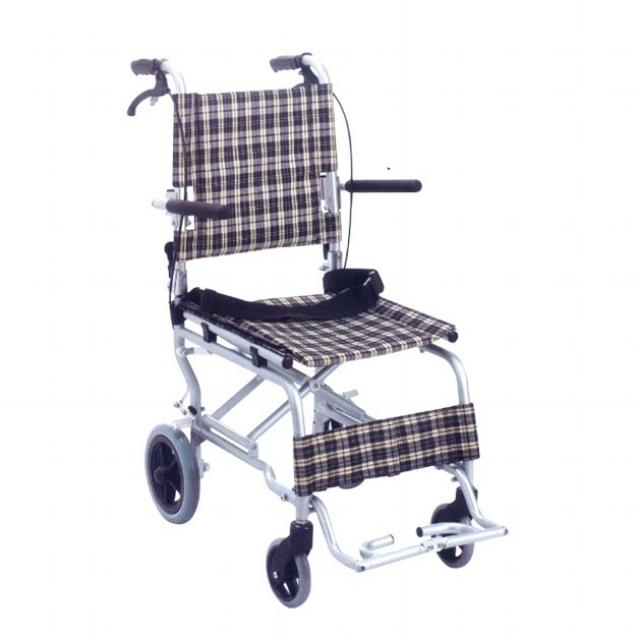wheelchair: (114, 32, 520, 616)
